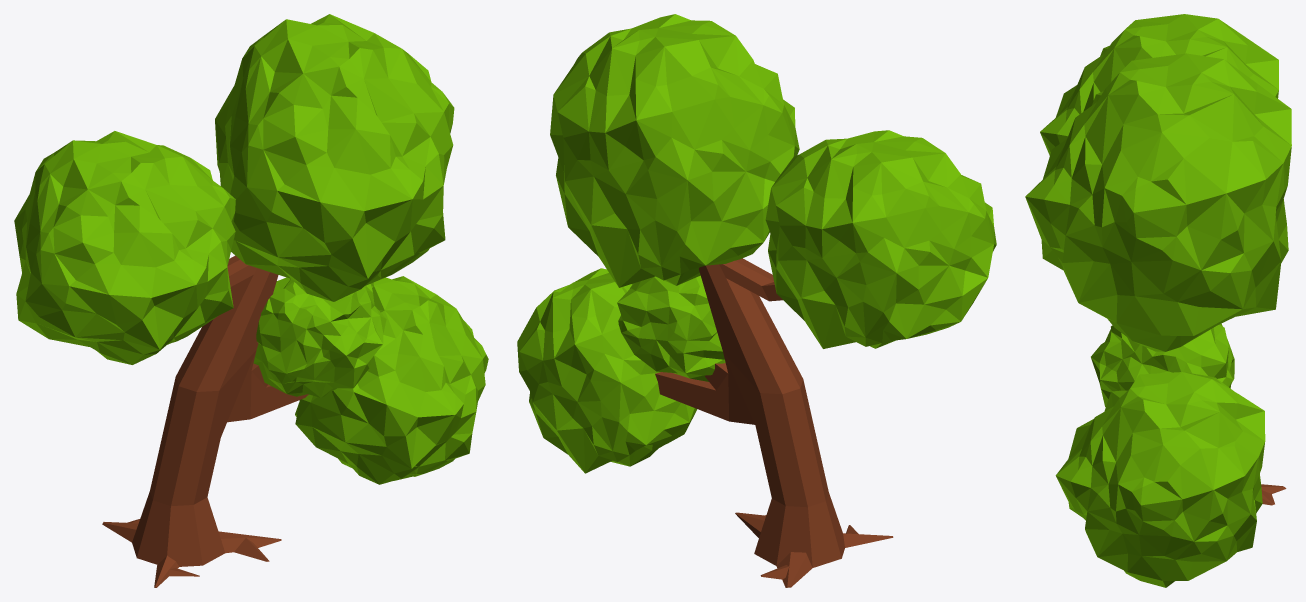
The model's file is Arbol2 .fbx.
The picture shows the model from 3 angles, left to right: view 1: azimuth 30°, elevation 25°; view 2: azimuth 150°, elevation 25°; view 3: azimuth 270°, elevation 25°; orthographic projection. The views are drawn at different scales.
Visible parts, largest first — view 1: Arbol 2; view 2: Arbol 2; view 3: Arbol 2.
Boxes of the visible parts, <box> form: Arbol 2: <box>14,14,488,587</box>; Arbol 2: <box>517,14,996,587</box>; Arbol 2: <box>1025,14,1291,587</box>.
Size of the model in its own units: 444 by 454 by 216.
